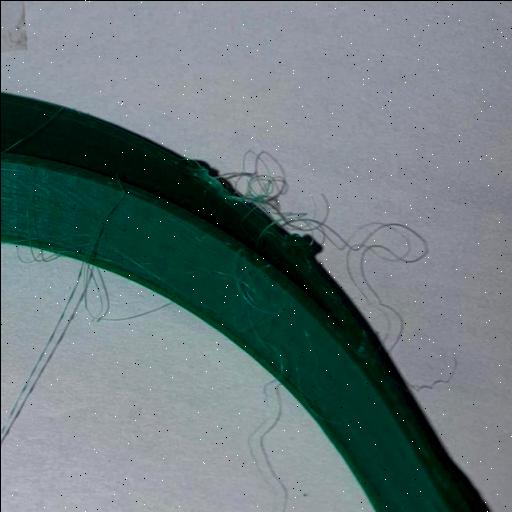stringing: (2, 231, 111, 426), (226, 165, 292, 204), (272, 209, 330, 236)
